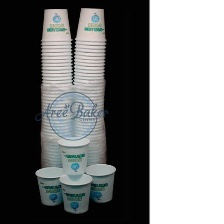paper_cup: (72, 4, 110, 164), (37, 5, 73, 171), (55, 170, 95, 216), (31, 164, 71, 207), (54, 133, 93, 177), (82, 162, 119, 205)
